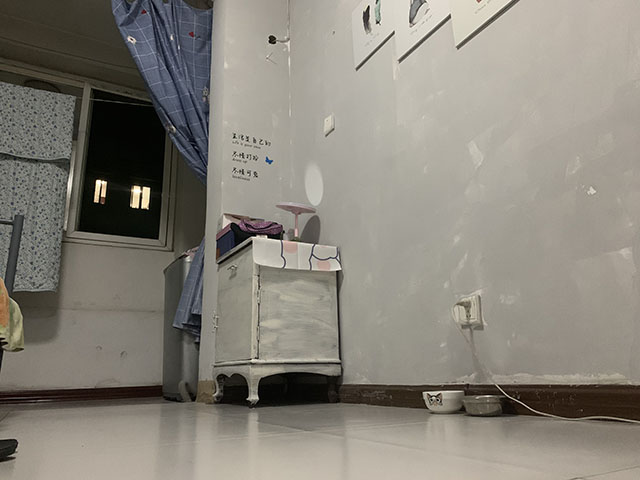cabinet: (211, 235, 343, 409)
wire: (450, 297, 640, 426)
